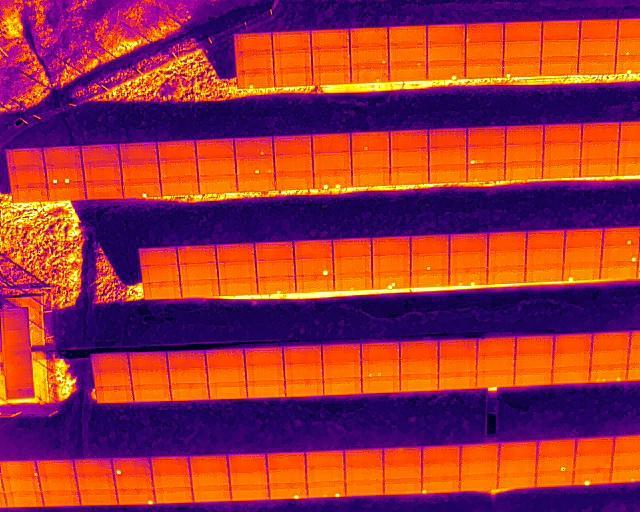Cell: (350, 131, 390, 150), (234, 138, 273, 157), (350, 64, 389, 83), (466, 146, 506, 164), (410, 253, 449, 271), (501, 60, 541, 77), (349, 47, 388, 64), (388, 63, 427, 80), (295, 258, 333, 275), (113, 458, 151, 475), (600, 246, 640, 262), (333, 274, 372, 290), (257, 277, 296, 293), (602, 229, 640, 245), (574, 470, 612, 486), (236, 72, 274, 88), (421, 478, 460, 493), (269, 484, 308, 499), (426, 64, 465, 79), (562, 264, 600, 279), (537, 457, 575, 472), (117, 489, 154, 504), (122, 183, 161, 196)
Cell-Multi: (235, 158, 275, 177), (361, 359, 399, 377), (589, 365, 628, 382), (45, 168, 83, 185), (371, 273, 410, 289), (314, 171, 353, 187), (307, 482, 346, 498), (449, 270, 487, 285)
No-Anomaly: (40, 148, 82, 168), (118, 143, 159, 163), (503, 39, 542, 60), (194, 141, 234, 161), (273, 154, 313, 174), (83, 166, 123, 186), (409, 234, 449, 254), (503, 22, 542, 42), (310, 29, 349, 49), (312, 152, 351, 172), (160, 161, 199, 181), (272, 51, 313, 70), (271, 31, 311, 50), (120, 163, 160, 182), (8, 168, 48, 187), (176, 244, 216, 263), (235, 52, 273, 72), (504, 144, 543, 163), (579, 20, 618, 39), (426, 26, 465, 45), (255, 242, 294, 261), (178, 262, 217, 281), (465, 42, 504, 61), (563, 229, 604, 247), (349, 28, 387, 47), (235, 33, 273, 52), (81, 146, 119, 165), (157, 142, 197, 160), (438, 339, 478, 357), (351, 151, 391, 169), (525, 230, 565, 248), (371, 237, 411, 255), (215, 244, 255, 262), (255, 259, 295, 277), (92, 353, 129, 372), (140, 246, 177, 265), (541, 21, 580, 39), (244, 347, 283, 365), (205, 348, 244, 366), (388, 27, 427, 45), (246, 381, 285, 399), (428, 147, 467, 165), (449, 233, 488, 251), (333, 239, 372, 257), (293, 240, 332, 258), (487, 249, 526, 267), (388, 45, 427, 63), (544, 125, 582, 143), (543, 143, 581, 161), (468, 23, 504, 42), (323, 378, 361, 396), (171, 383, 209, 401), (6, 150, 44, 168), (312, 50, 350, 68), (578, 56, 616, 74), (389, 131, 429, 148), (218, 278, 258, 295), (476, 337, 516, 354), (196, 160, 236, 177), (266, 453, 306, 470), (539, 40, 579, 57), (311, 65, 351, 82), (581, 141, 618, 159), (286, 380, 323, 398), (142, 264, 179, 282), (505, 126, 544, 143), (466, 129, 505, 146), (273, 137, 312, 154), (180, 280, 219, 297), (360, 343, 399, 360), (321, 345, 360, 362), (167, 351, 206, 368), (128, 352, 167, 369), (207, 366, 246, 383), (551, 366, 590, 383), (383, 448, 422, 465), (390, 149, 429, 166), (488, 232, 527, 249), (524, 248, 563, 265), (448, 252, 487, 269), (371, 255, 410, 272), (333, 257, 372, 274), (216, 262, 255, 279), (426, 45, 465, 62), (465, 61, 504, 78), (574, 437, 615, 453), (312, 135, 350, 152), (131, 369, 169, 386), (209, 383, 247, 400), (542, 161, 580, 178), (391, 166, 429, 183), (189, 456, 227, 473), (36, 460, 74, 477), (578, 40, 616, 57), (399, 342, 439, 358), (132, 386, 172, 402), (459, 444, 499, 460), (351, 169, 391, 185), (582, 124, 619, 141), (421, 446, 458, 463), (284, 363, 323, 379), (467, 164, 506, 180), (428, 165, 467, 181), (562, 248, 601, 264), (344, 449, 383, 465), (306, 451, 345, 467), (227, 454, 266, 470), (151, 457, 190, 473), (74, 459, 113, 475), (539, 58, 578, 74), (553, 335, 591, 351), (515, 338, 553, 354), (284, 346, 322, 362), (477, 355, 515, 371), (439, 373, 477, 389), (362, 377, 400, 393), (536, 440, 574, 456), (499, 442, 537, 458), (2, 477, 40, 493), (155, 488, 193, 504), (398, 359, 438, 374), (198, 177, 238, 192), (84, 185, 124, 200), (523, 266, 563, 281), (409, 271, 449, 286), (459, 461, 499, 476), (305, 467, 345, 482), (152, 474, 192, 489), (231, 486, 271, 501), (144, 282, 181, 298), (515, 369, 552, 385), (590, 349, 629, 364), (438, 357, 477, 372), (322, 362, 361, 377), (245, 365, 284, 380), (600, 263, 639, 278), (421, 463, 460, 478), (383, 464, 422, 479), (268, 469, 307, 484), (230, 471, 269, 486), (39, 476, 78, 491), (383, 480, 422, 495), (344, 481, 383, 496), (79, 489, 118, 504), (274, 71, 313, 86), (0, 461, 36, 477), (429, 131, 467, 146), (552, 351, 590, 366), (169, 368, 207, 383), (477, 371, 515, 386), (505, 163, 543, 178), (345, 465, 383, 480), (77, 474, 115, 489), (4, 492, 42, 507), (399, 375, 439, 389), (47, 186, 87, 200), (534, 472, 574, 486), (94, 372, 131, 387), (96, 388, 133, 403), (580, 160, 617, 175), (237, 177, 276, 191), (486, 268, 525, 282), (574, 454, 613, 468), (191, 473, 230, 487), (192, 488, 231, 502), (41, 491, 80, 505), (295, 276, 333, 290), (591, 334, 629, 348), (515, 354, 553, 368), (498, 459, 536, 473), (499, 473, 536, 487), (115, 474, 152, 488), (10, 187, 49, 200), (275, 176, 314, 188), (161, 182, 200, 194), (460, 476, 499, 488)
